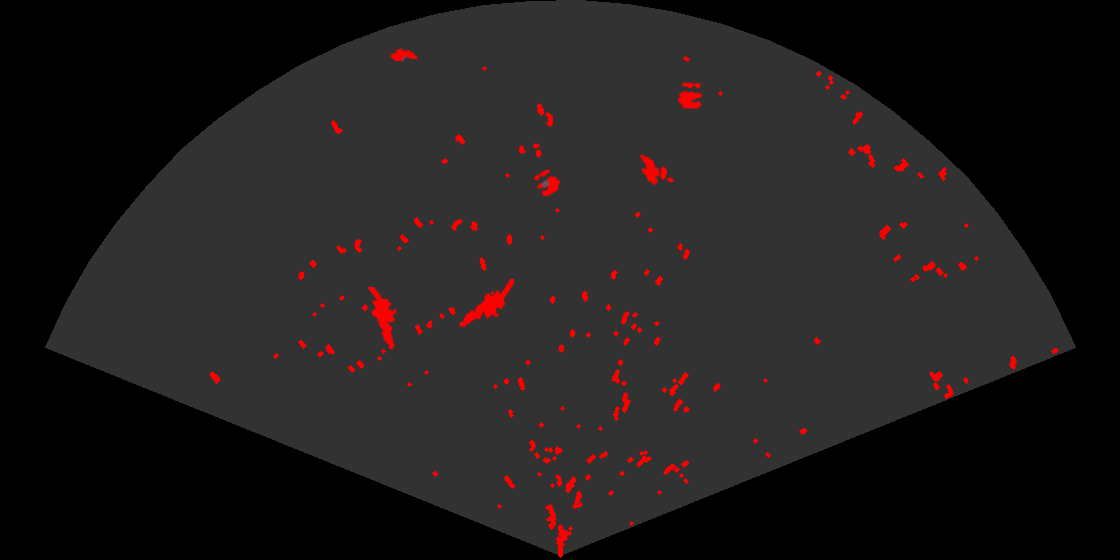AUV: (638, 152, 662, 187), (388, 46, 420, 64)
ball: (532, 168, 562, 198), (676, 81, 704, 111)
frogman: (457, 279, 514, 329), (366, 287, 399, 351)
